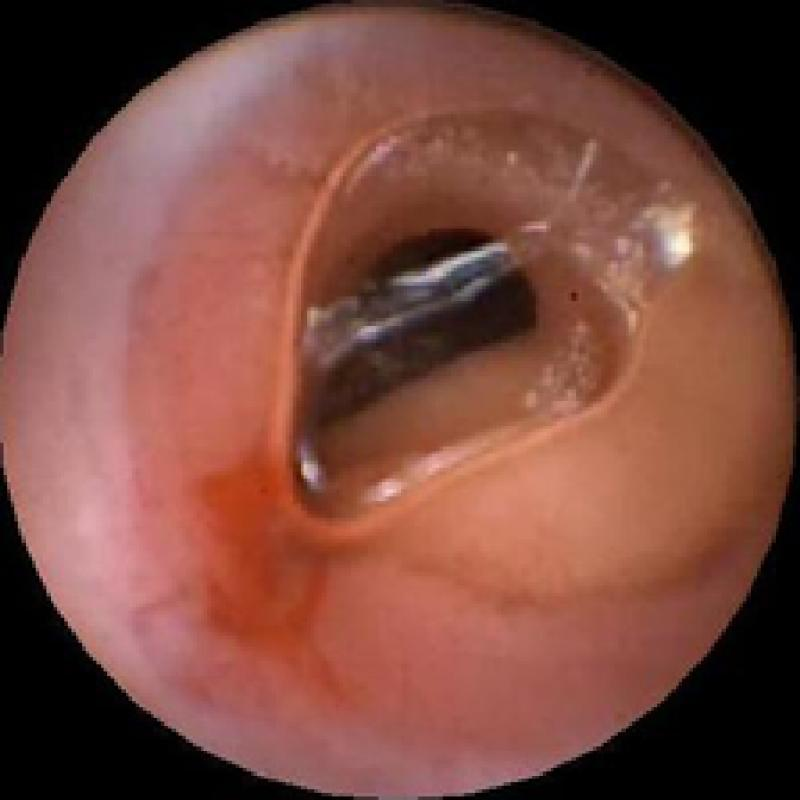bleeding: (228, 411, 354, 707)
